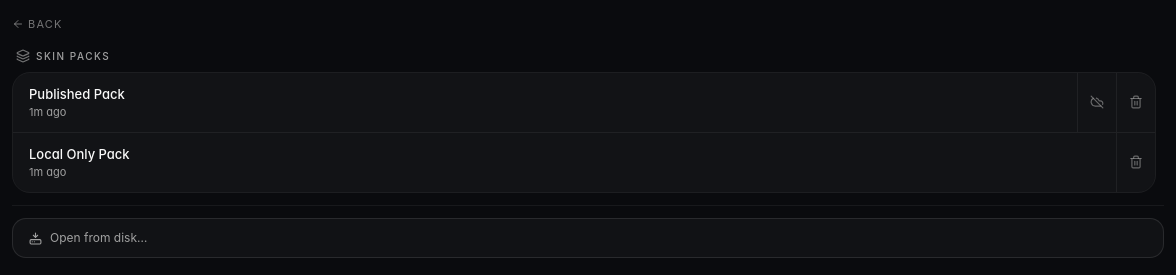
Test: SavedProjectsList › Workshop delete affordance › arming Workshop delete shows a confirm+cancel cluster in amber
Click the button named "Remove Published Pack from Workshop".
click(1096, 102)  # box x1=1077 y1=72 x2=1116 y2=132
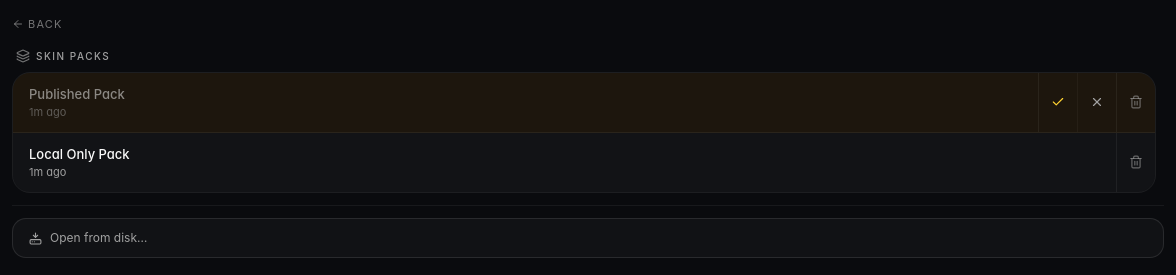
Expected: the button with test id "arm-delete" is shown, x1=1116 y1=72 x2=1155 y2=132
Expected: the number of buttons with test id "confirm-workshop-delete" is 1, x1=1039 y1=72 x2=1077 y2=132
Expected: the number of buttons with test id "cancel-workshop-delete" is 1, x1=1077 y1=72 x2=1116 y2=132
